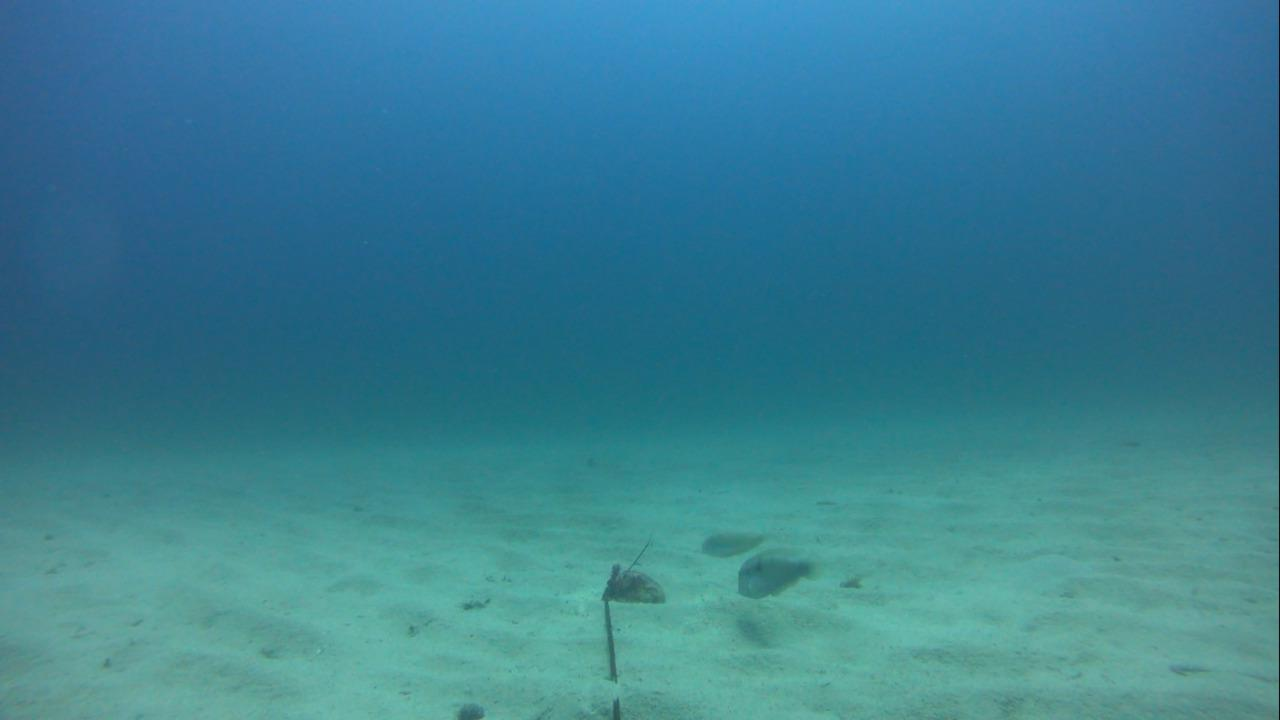raor: (734, 550, 819, 597), (695, 527, 767, 558)
